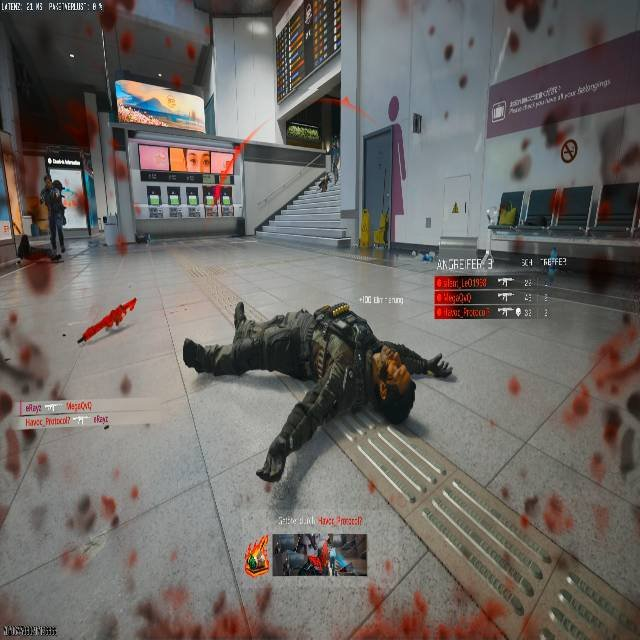head: (51, 179, 62, 190)
player: (39, 178, 72, 255)
